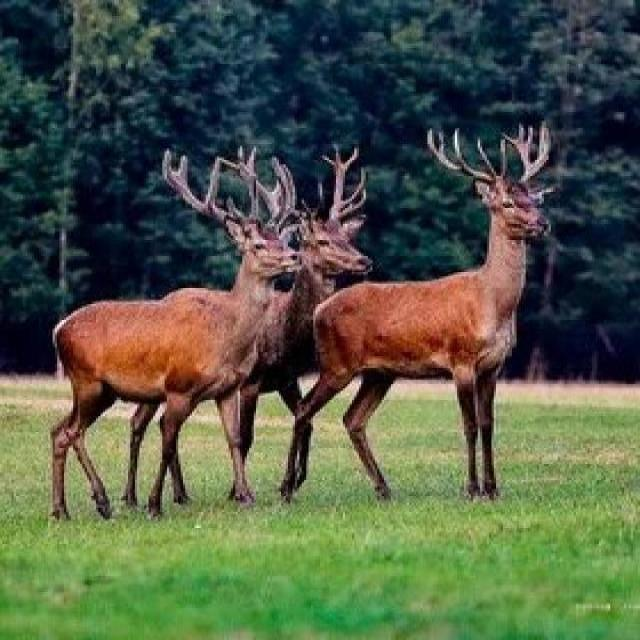deer: (291, 182, 579, 549), (25, 163, 255, 505)
